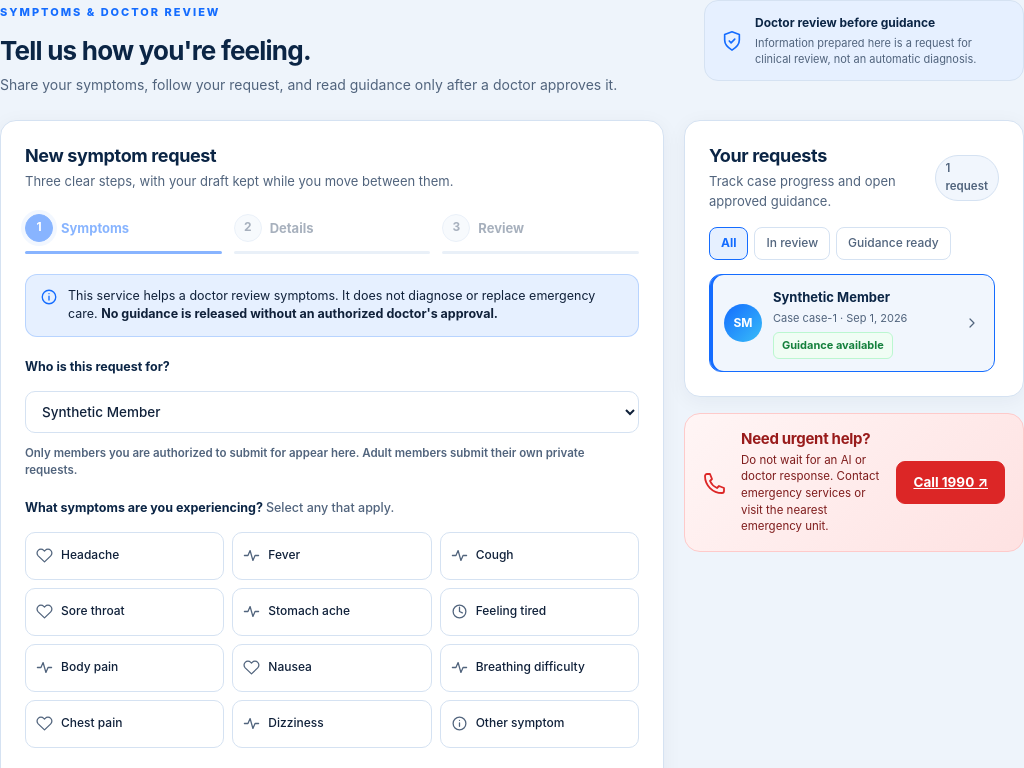
it: TriagePage › keeps approved guidance visible when its already selected request card is clicked
Click the button that starts with "Synthetic Member" at (852, 323), box x1=709 y1=274 x2=995 y2=372
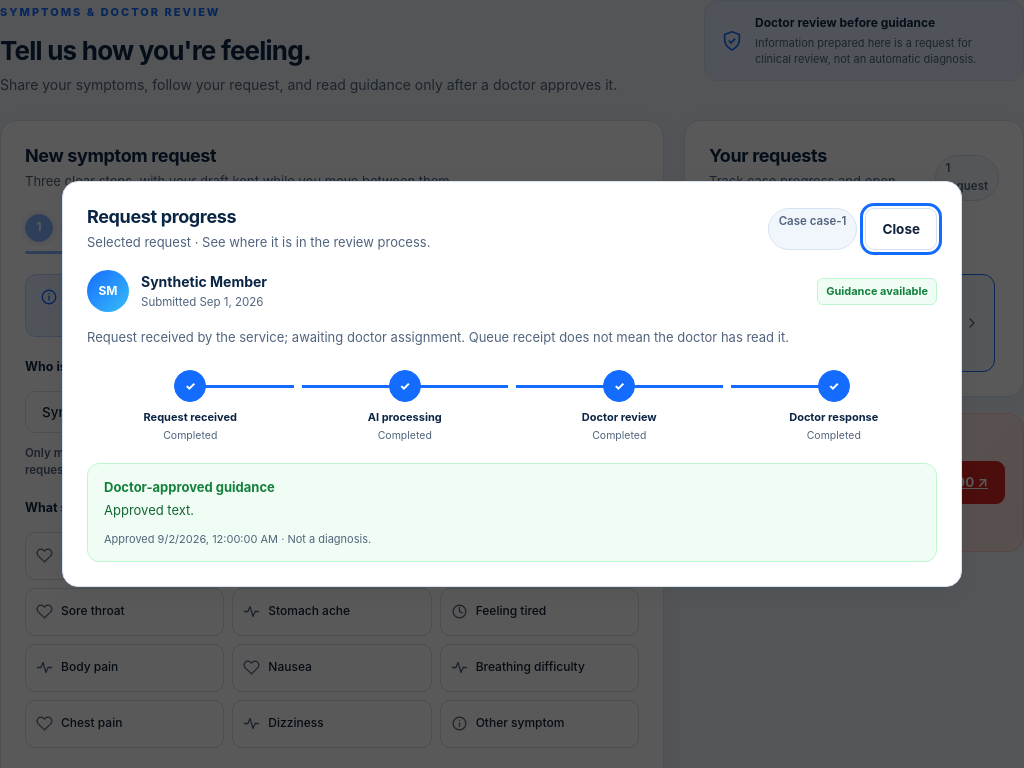
Check: the text "Approved text." is shown, box x1=104 y1=502 x2=194 y2=518
